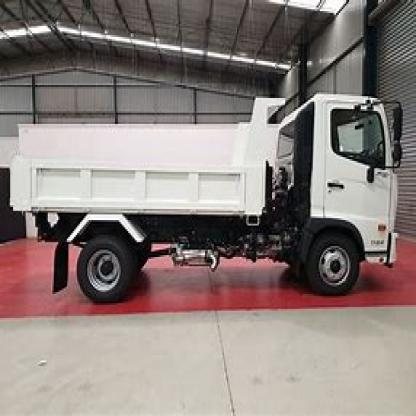dump_truck: (3, 70, 404, 305)
